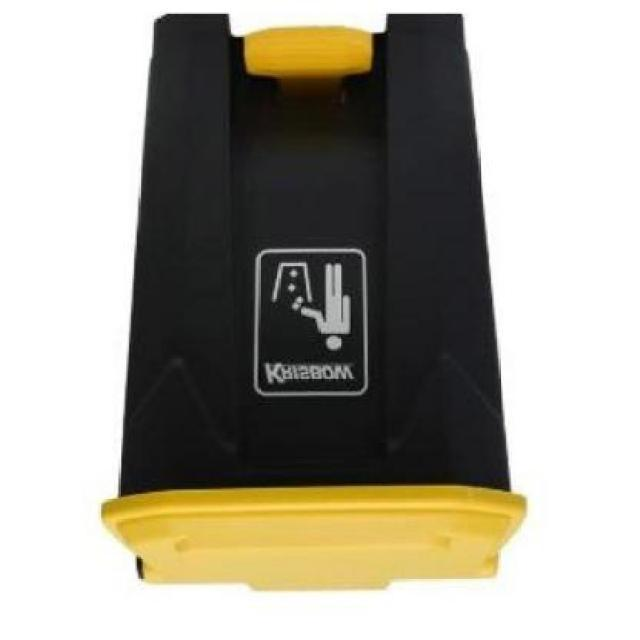garbage container: (44, 1, 541, 606)
